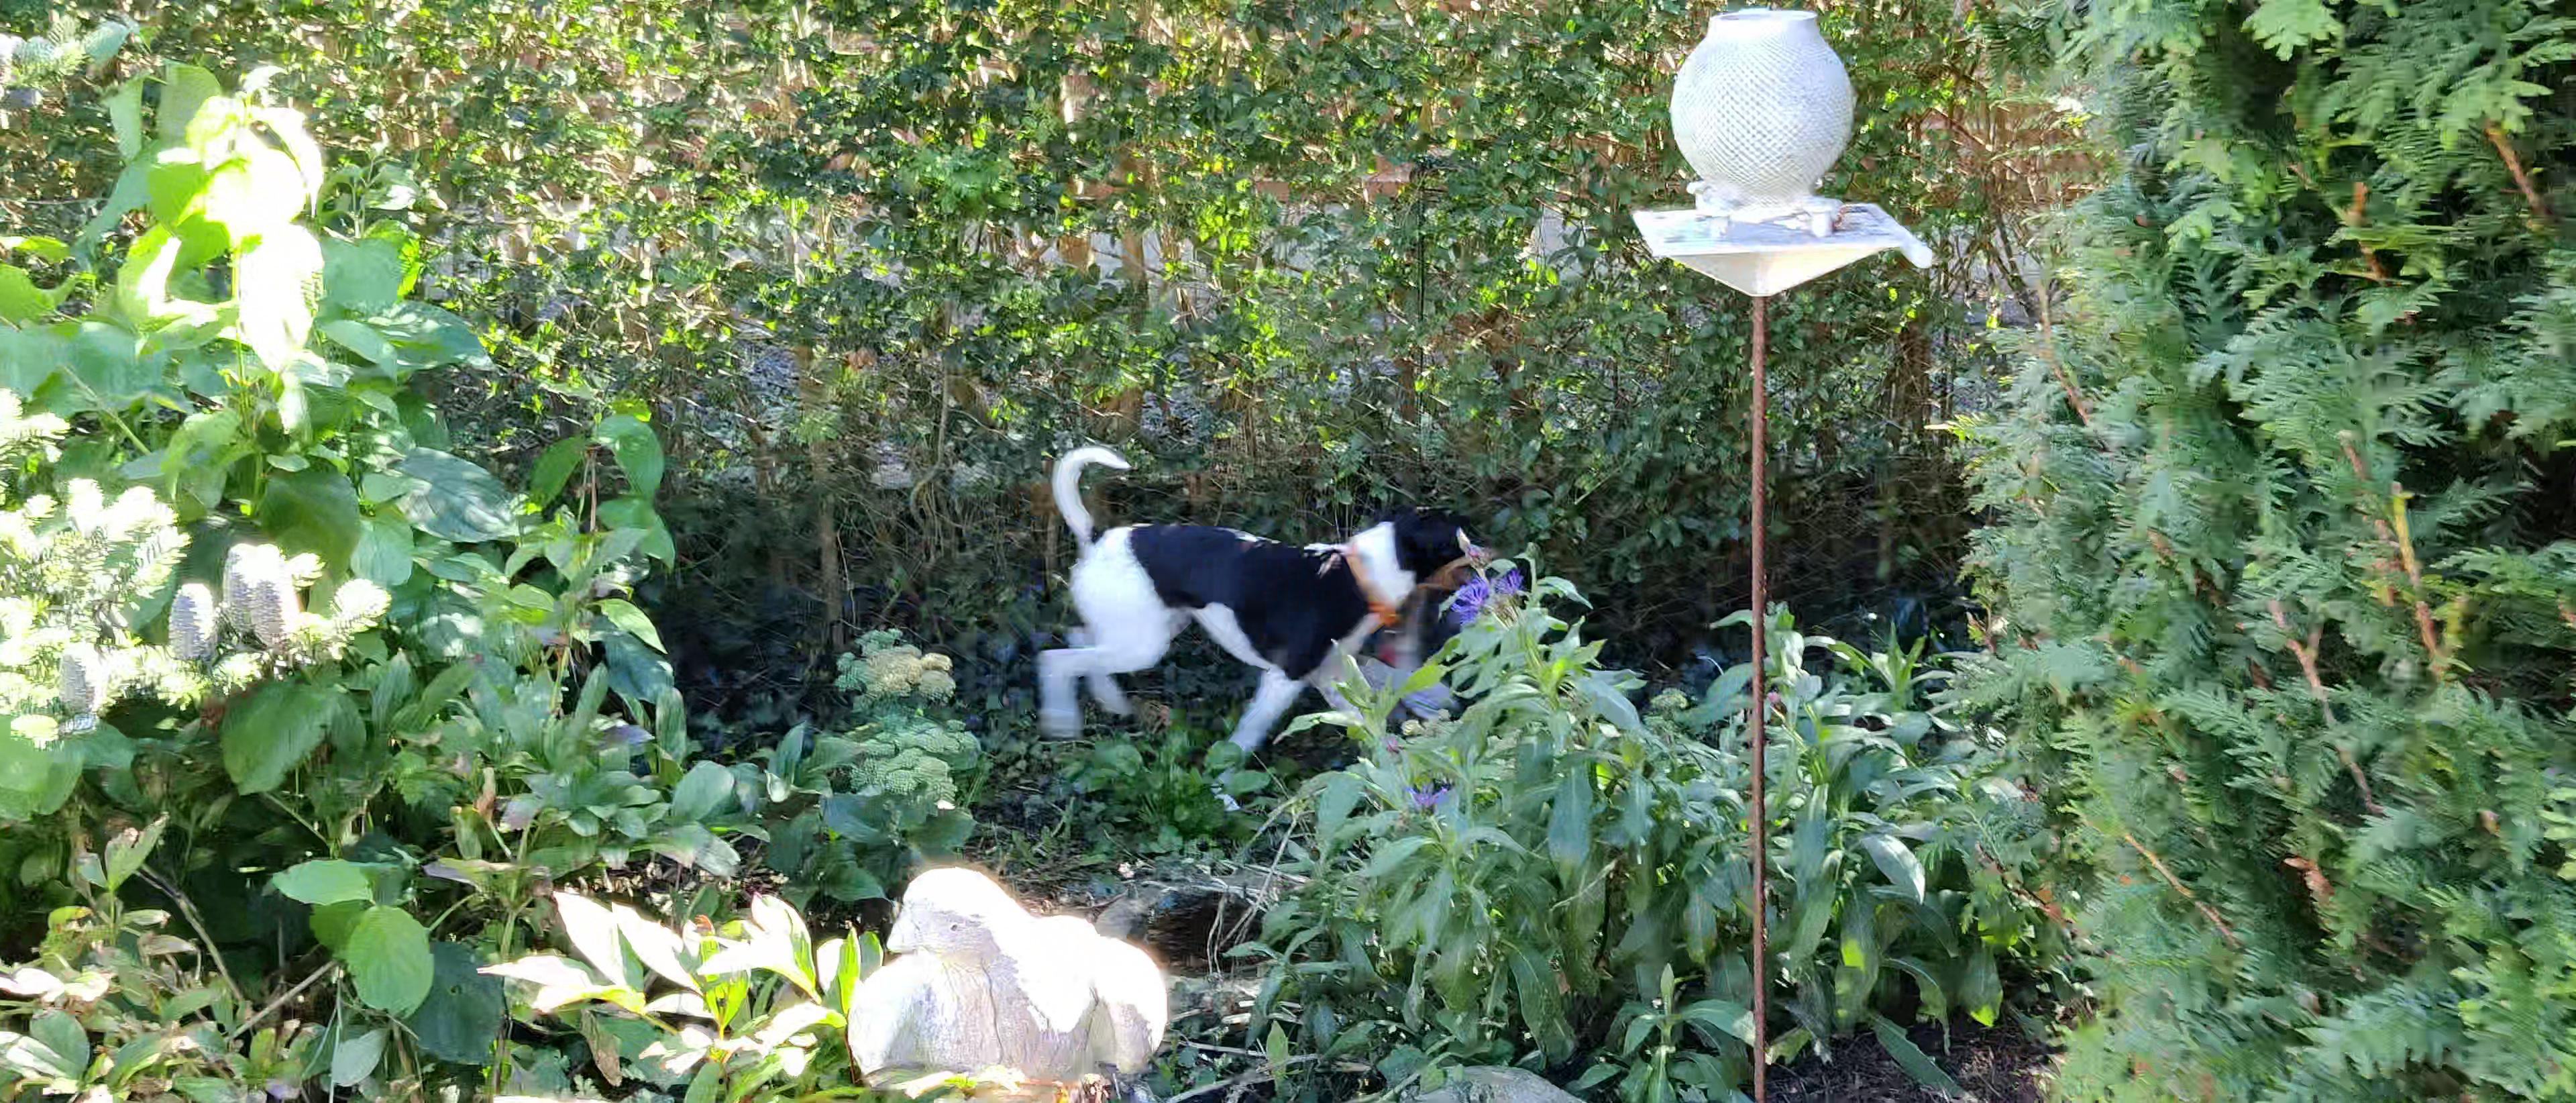Dog: (1015, 424, 1506, 809)
